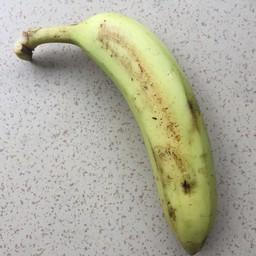Good_banana: (12, 0, 213, 256)
